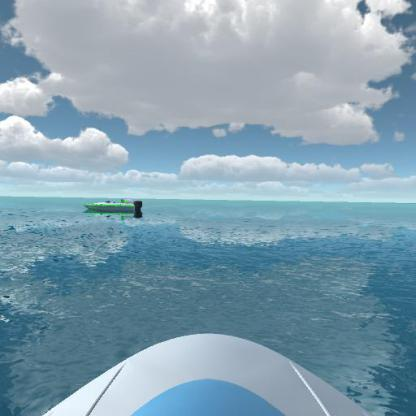usv0: (86, 191, 148, 225)
